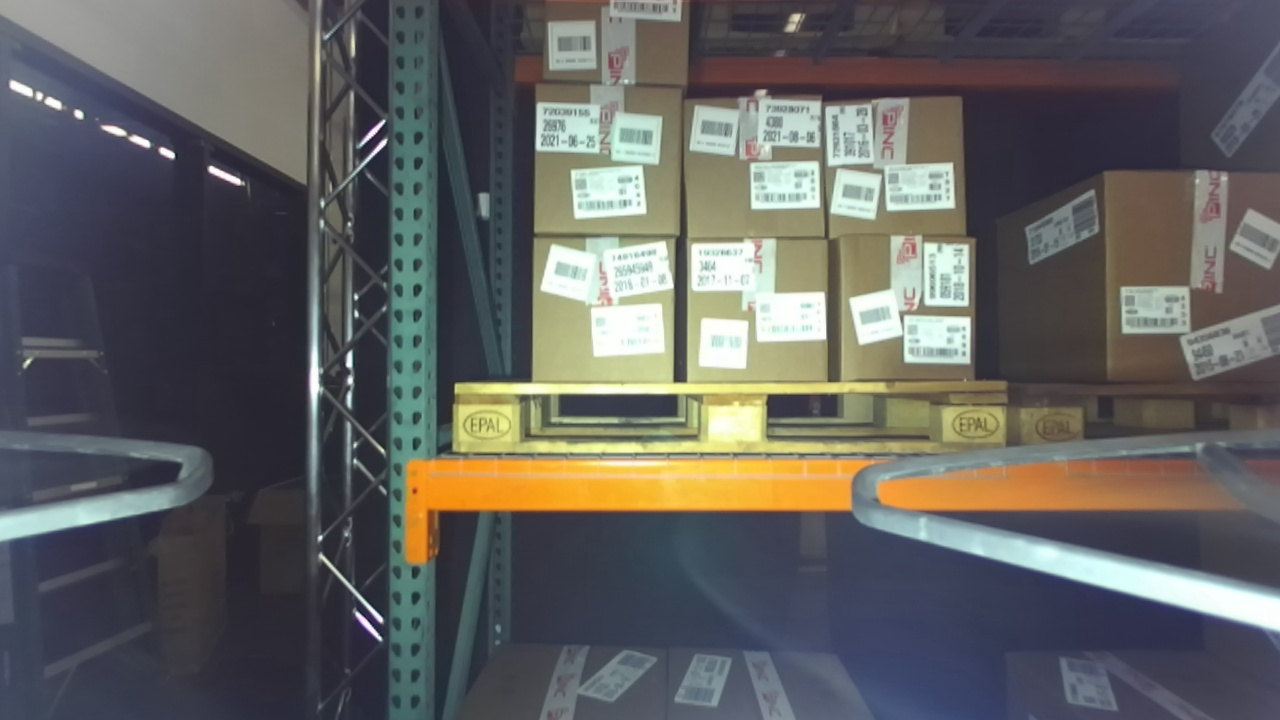box: (1080, 149, 1280, 413), (513, 66, 709, 246), (668, 224, 852, 403), (670, 69, 838, 253), (520, 228, 703, 396), (811, 82, 989, 247), (819, 225, 991, 390), (526, 1, 702, 95)
